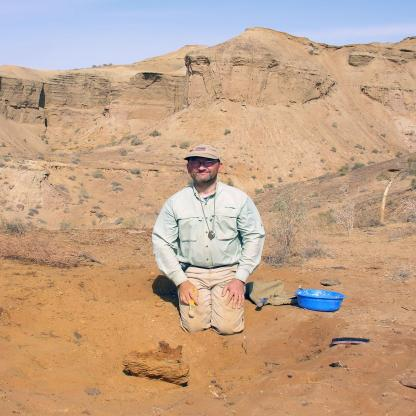person: (140, 132, 273, 343)
